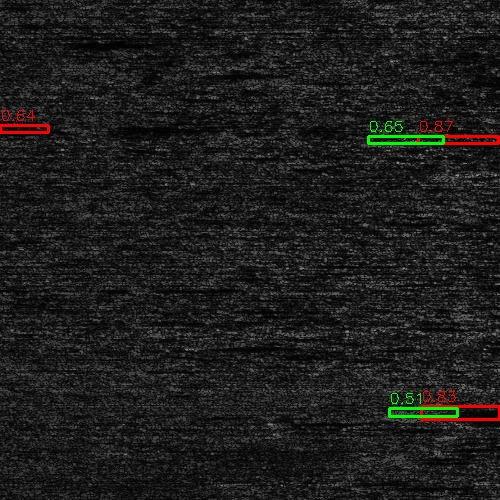rock: (356, 405, 439, 422), (0, 38, 81, 47), (361, 137, 444, 144), (170, 68, 223, 75), (62, 124, 115, 131)
shadow: (398, 405, 500, 422), (29, 38, 119, 47), (89, 124, 204, 131), (403, 137, 500, 144), (197, 68, 280, 75), (0, 124, 55, 133)
